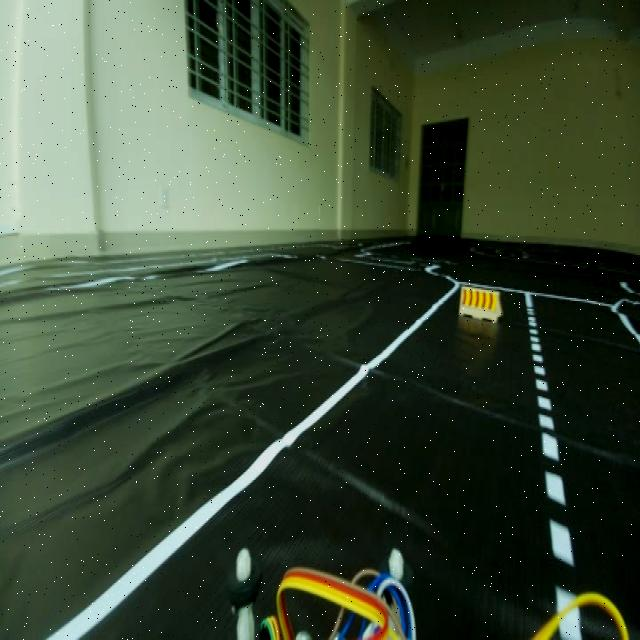roadblock: (456, 278, 509, 329)
